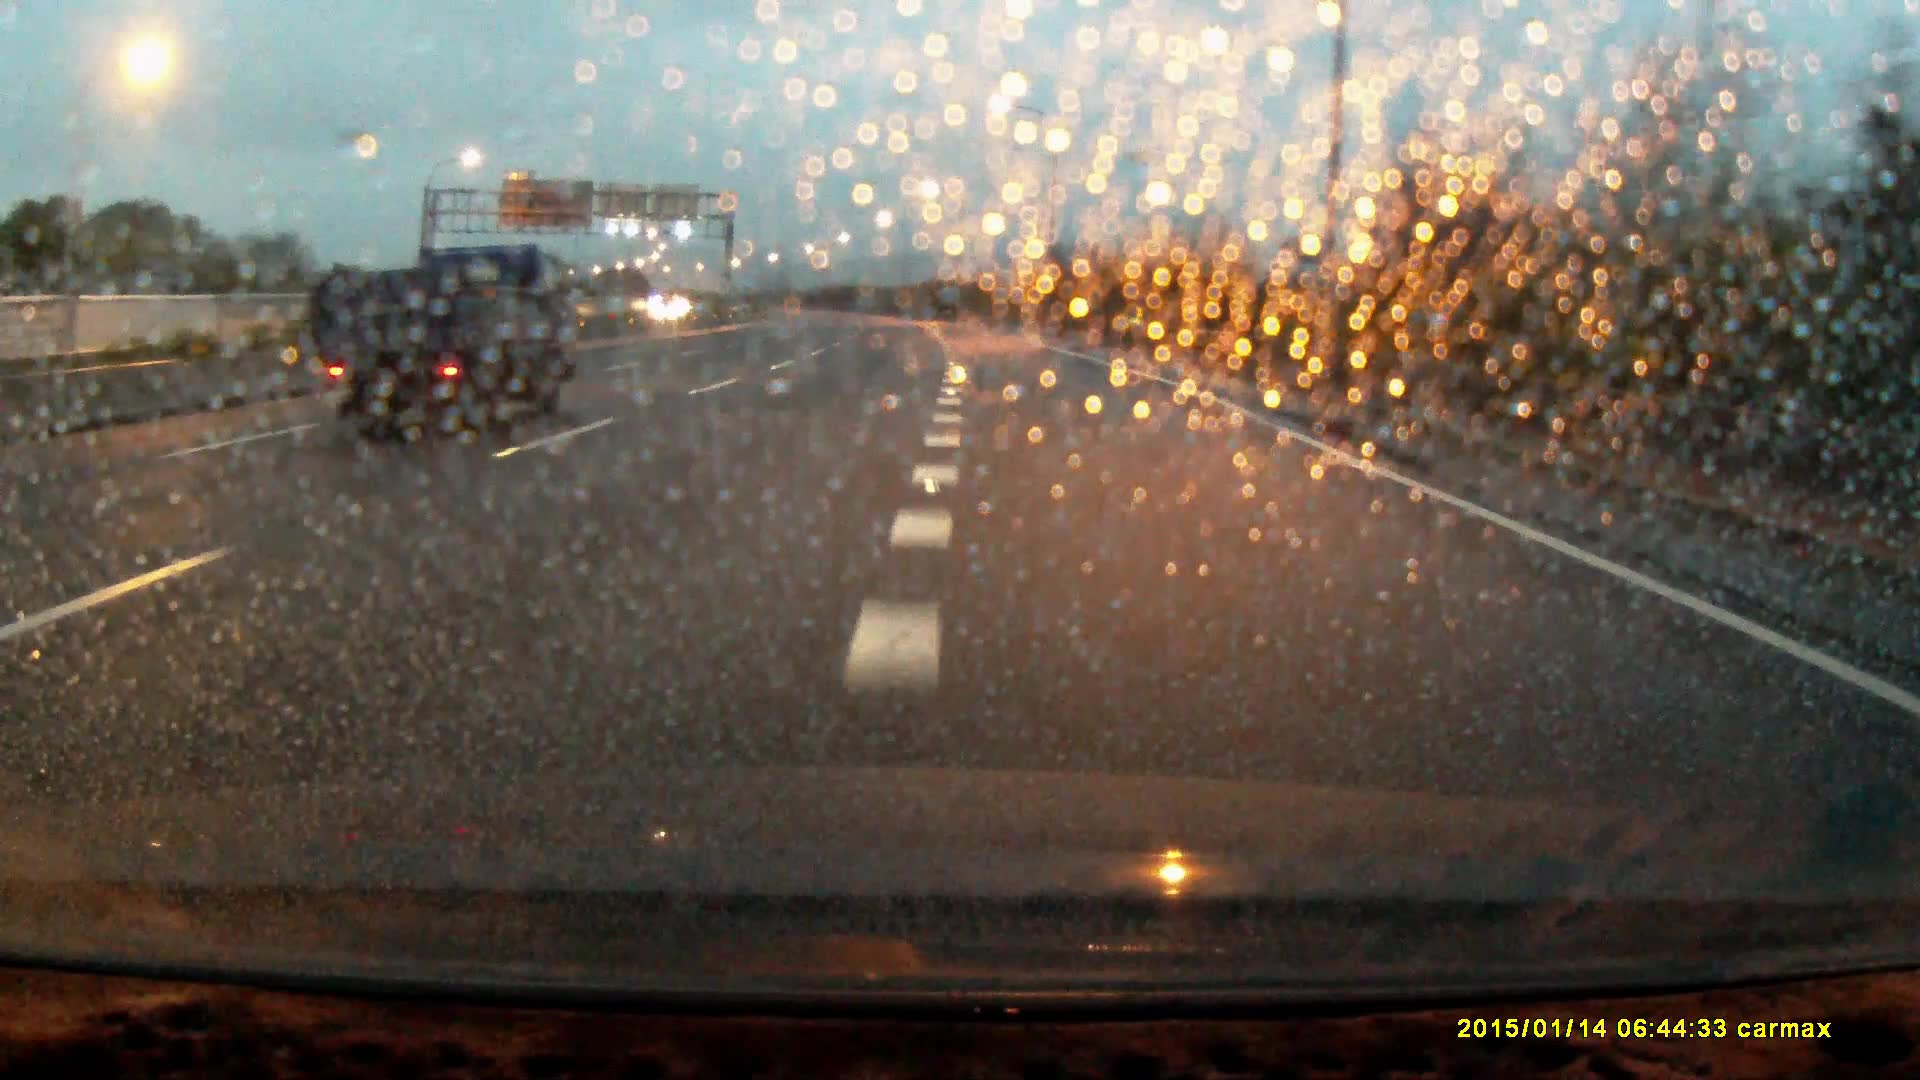vehicle: (310, 237, 558, 436)
